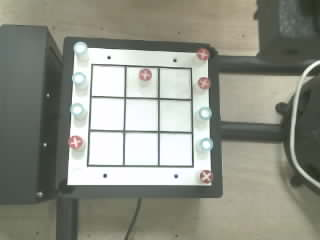blue circle: (73, 42, 88, 55), (72, 72, 85, 85), (199, 138, 212, 151), (70, 103, 83, 115), (199, 107, 211, 119)
board: (66, 46, 211, 188)
cells: (89, 132, 122, 164), (125, 133, 157, 165), (90, 98, 123, 129), (125, 99, 157, 130), (160, 134, 191, 165), (160, 100, 191, 131), (92, 66, 124, 96), (160, 68, 191, 98), (126, 67, 157, 97)
grid: (87, 64, 193, 167)
red cross: (68, 136, 83, 149), (196, 48, 209, 60), (200, 170, 212, 183), (139, 69, 151, 80), (198, 77, 210, 88)
